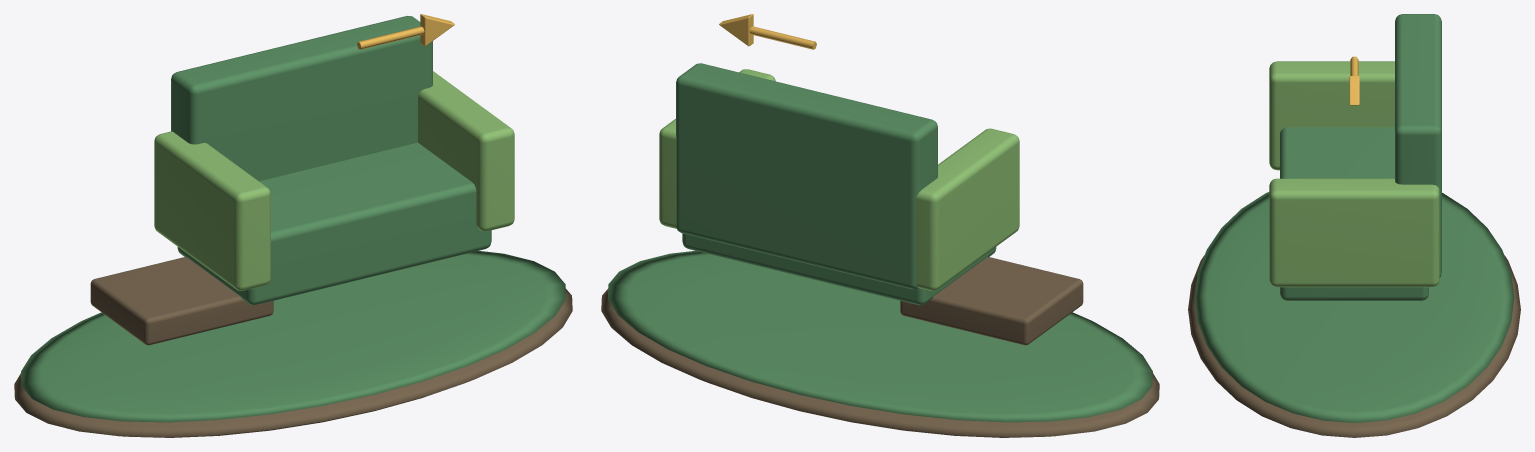
File: sand-sofa.glb
The picture shows the model from 3 angles, left to right: view 1: azimuth 30°, elevation 25°; view 2: azimuth 150°, elevation 25°; view 3: azimuth 270°, elevation 25°; orthographic projection.
Parts seen in each view (by area): view 1: sand-sofa_surface_01, sand-sofa_surface_03, sand-sofa_surface_00, sand-sofa_surface_02; view 2: sand-sofa_surface_01, sand-sofa_surface_00, sand-sofa_surface_03, sand-sofa_surface_02; view 3: sand-sofa_surface_01, sand-sofa_surface_03, sand-sofa_surface_00, sand-sofa_surface_02.
Part boxes in pixels (x1,y1,x2,y2): sand-sofa_surface_01: (21, 16, 565, 422); sand-sofa_surface_03: (154, 71, 514, 290); sand-sofa_surface_00: (14, 257, 572, 437); sand-sofa_surface_02: (357, 14, 454, 49); sand-sofa_surface_01: (608, 63, 1152, 422); sand-sofa_surface_00: (601, 257, 1159, 437); sand-sofa_surface_03: (659, 69, 1019, 290); sand-sofa_surface_02: (719, 14, 816, 49); sand-sofa_surface_01: (1194, 14, 1514, 422); sand-sofa_surface_03: (1269, 61, 1439, 287); sand-sofa_surface_00: (1188, 255, 1520, 437); sand-sofa_surface_02: (1349, 56, 1359, 105).
Bounding box in the file's own units: 4.56 × 2.58 × 2.5.
